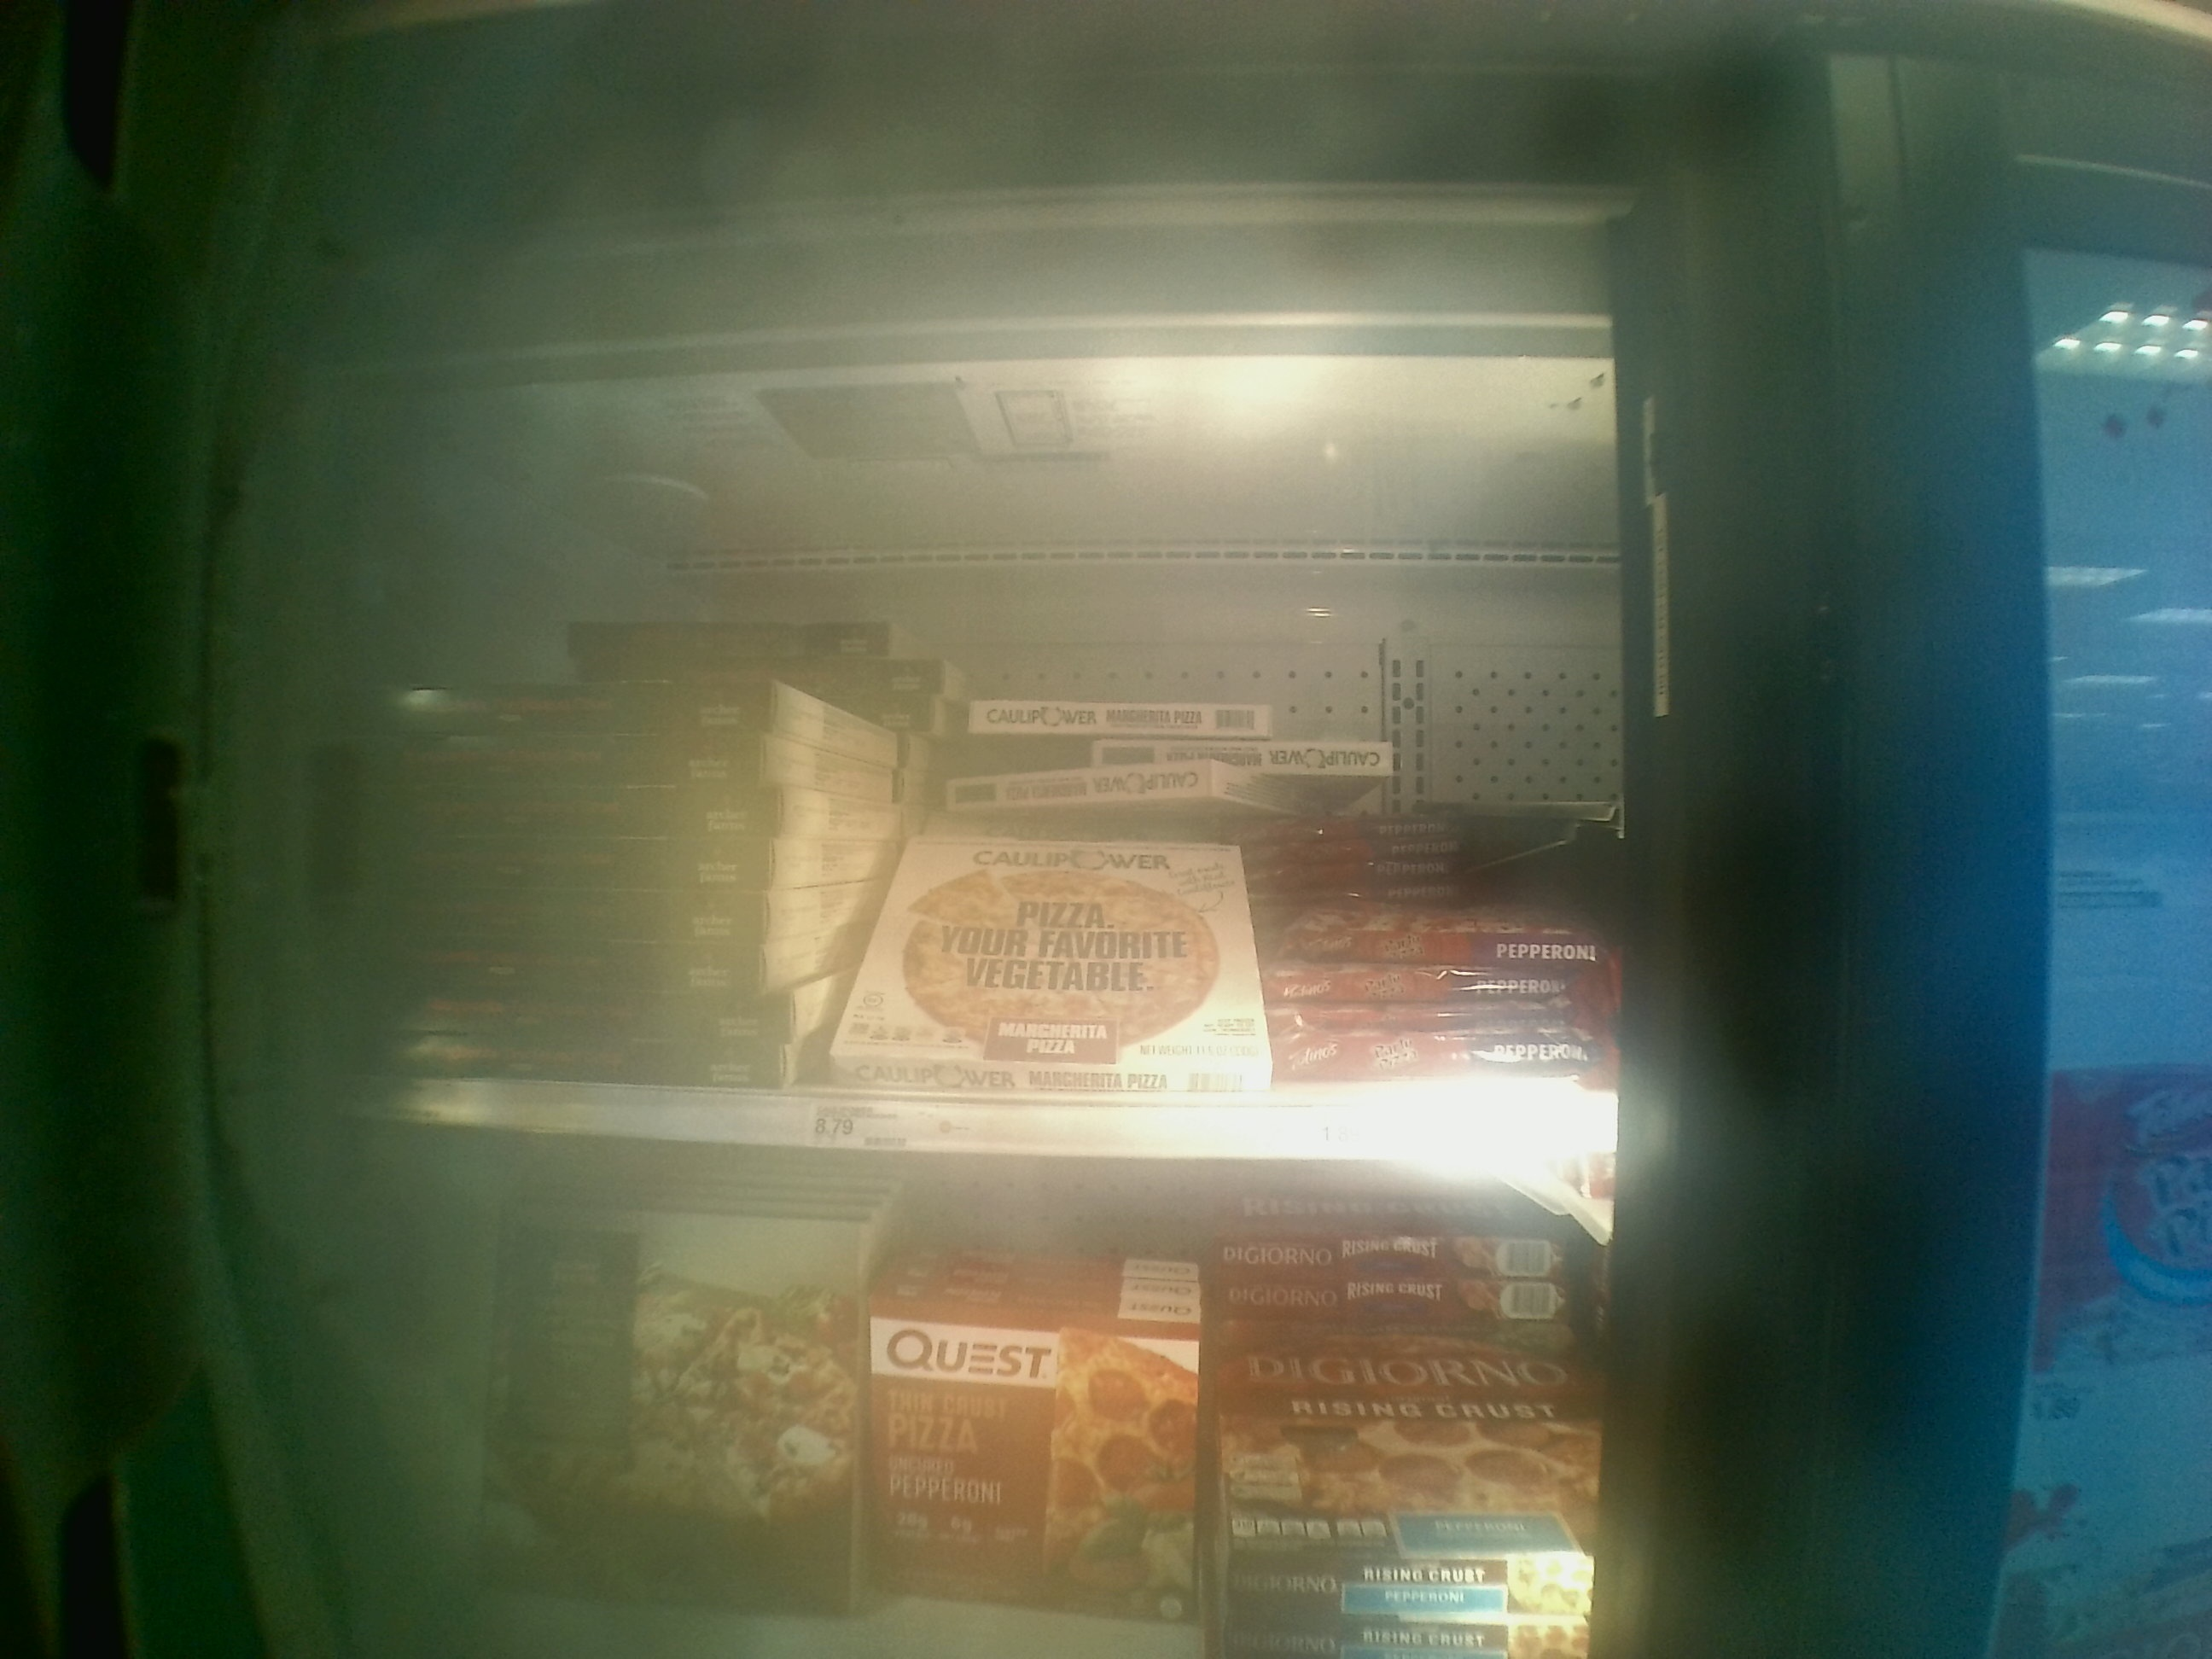shelf: (294, 220, 1646, 1159)
